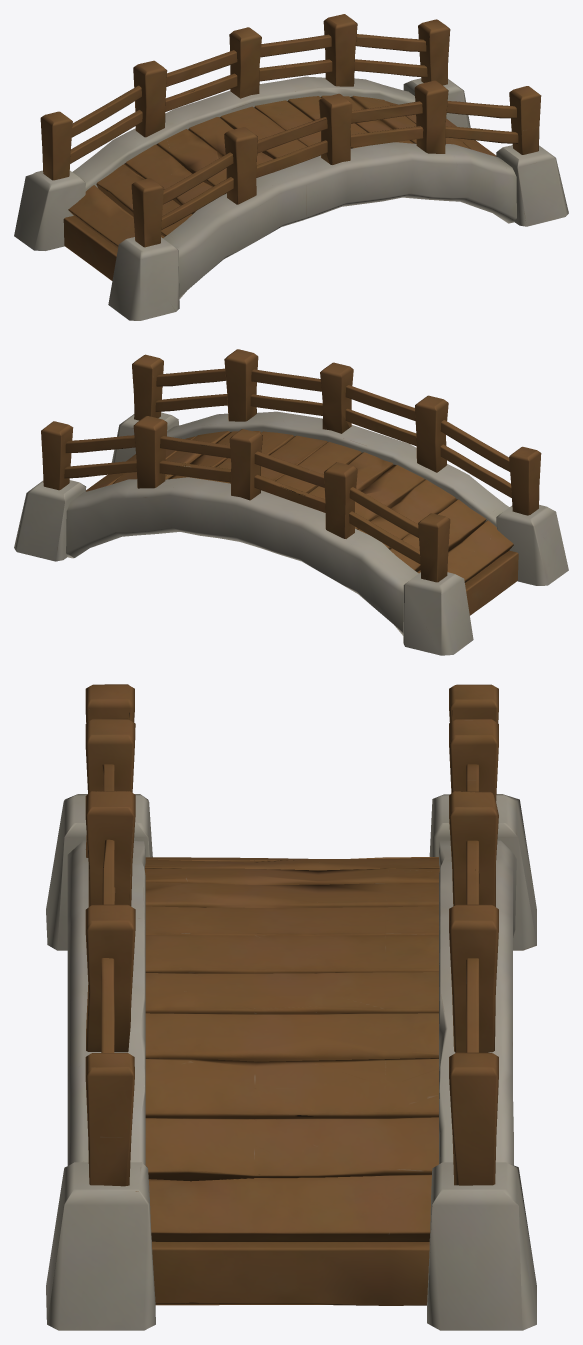
Rendered from 53-small-bridge.glb.
3 views of the same model, one above another, from view 1: azimuth 30°, elevation 25°; view 2: azimuth 150°, elevation 25°; view 3: azimuth 270°, elevation 25° (orthographic). The views are drawn at different scales.
Visible parts, largest first — view 1: geometry_0; view 2: geometry_0; view 3: geometry_0.
Part boxes in pixels (x1,y1,x2,y2): geometry_0: (14,14,568,320); geometry_0: (14,349,568,655); geometry_0: (46,684,536,1330).
Bounding box in the file's own units: 0.9497 × 0.332 × 0.46.
1 material, 1 textured.
